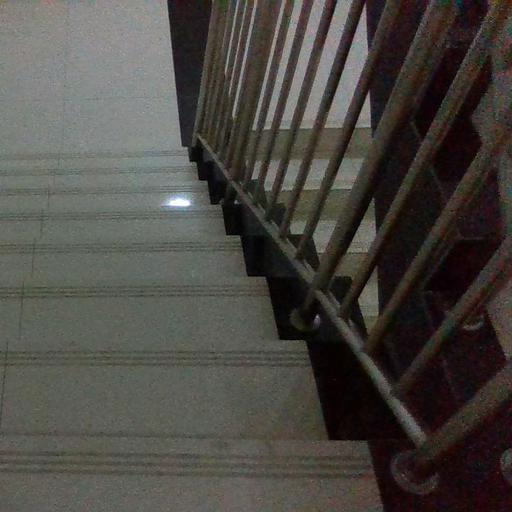Stairs: (0, 150, 382, 512)
